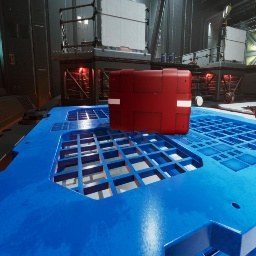0: (195, 96, 203, 106)
EmergencyPhone ,: (8, 51, 15, 64)
FireExtinguisher ]: (247, 105, 256, 118)
FirstAidBox ,: (108, 68, 192, 136), (170, 61, 173, 63)
NitrogenTank ,: (223, 92, 235, 104), (188, 61, 197, 65)
SafetySwitchPanel ,: (157, 27, 162, 47)
